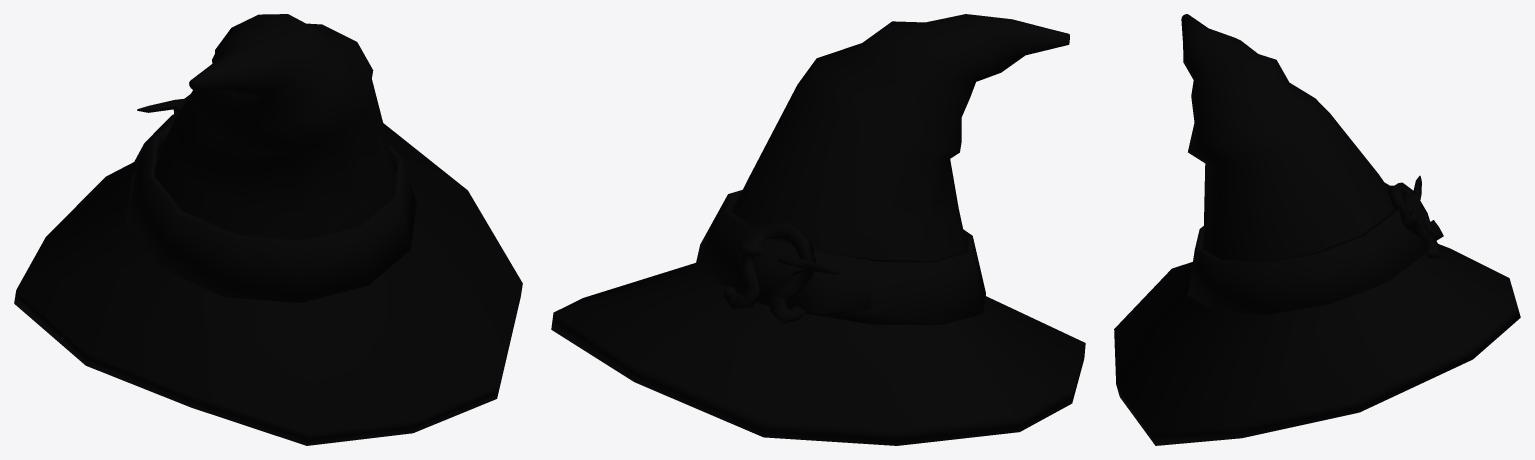
Rendered from HelmetPointyHatFixed.fbx.
3 renders of one model, left to right at view 1: azimuth 30°, elevation 25°; view 2: azimuth 150°, elevation 25°; view 3: azimuth 270°, elevation 25°, orthographic. The views are drawn at different scales.
Visible parts, largest first — view 1: HelmetPointyHat_2; view 2: HelmetPointyHat_2; view 3: HelmetPointyHat_2.
Boxes of the visible parts, x1=… form: HelmetPointyHat_2: x1=14, y1=14, x2=522, y2=445; HelmetPointyHat_2: x1=551, y1=14, x2=1085, y2=445; HelmetPointyHat_2: x1=1114, y1=14, x2=1520, y2=445.
Bounding box in the file's own units: 43.12 × 35.99 × 41.
1 material, 1 textured.
